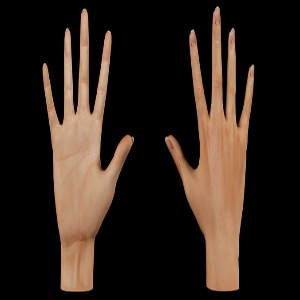hand: (41, 3, 132, 224), (166, 8, 255, 226)
